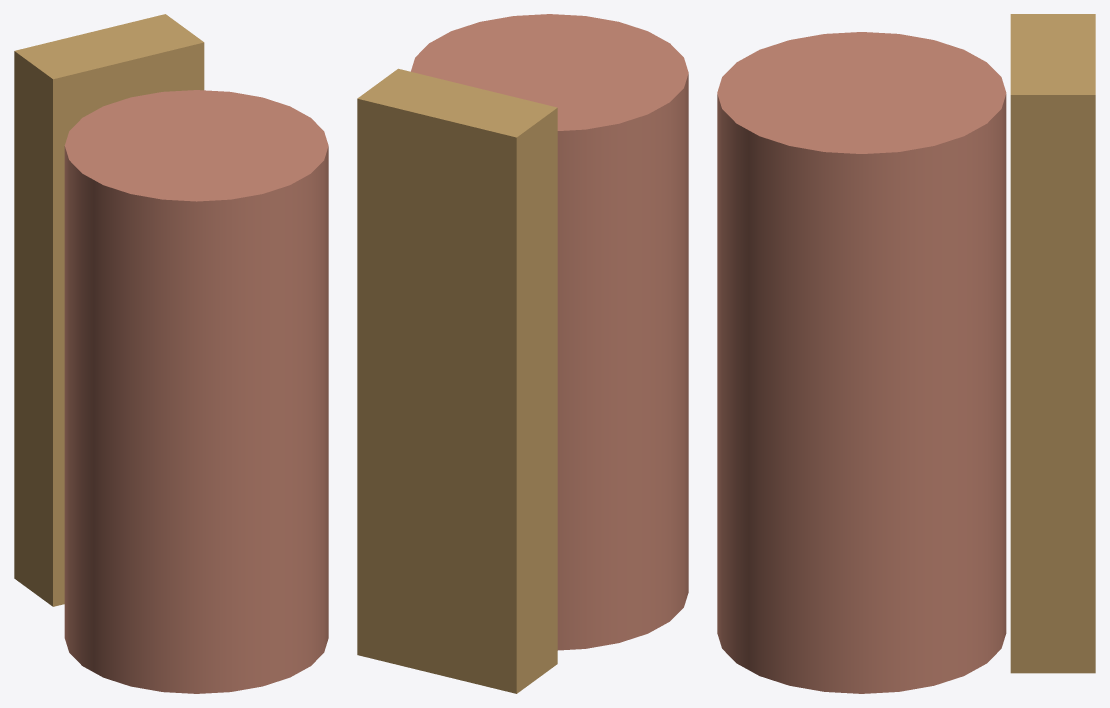
The picture shows the model from 3 angles, left to right: view 1: azimuth 30°, elevation 25°; view 2: azimuth 150°, elevation 25°; view 3: azimuth 270°, elevation 25°; orthographic projection. The views are drawn at different scales.
Visible parts, largest first — view 1: Tube, Plate; view 2: Plate, Tube; view 3: Tube, Plate.
Boxes of the visible parts, left/top/right/bottom form: Tube: left=64, top=90, right=328, bottom=693; Plate: left=14, top=14, right=204, bottom=606; Plate: left=357, top=68, right=557, bottom=693; Tube: left=411, top=14, right=688, bottom=650; Tube: left=717, top=32, right=1006, bottom=693; Plate: left=1010, top=14, right=1095, bottom=673.
Size of the model in its own units: 0.068 by 0.15 by 0.089.
